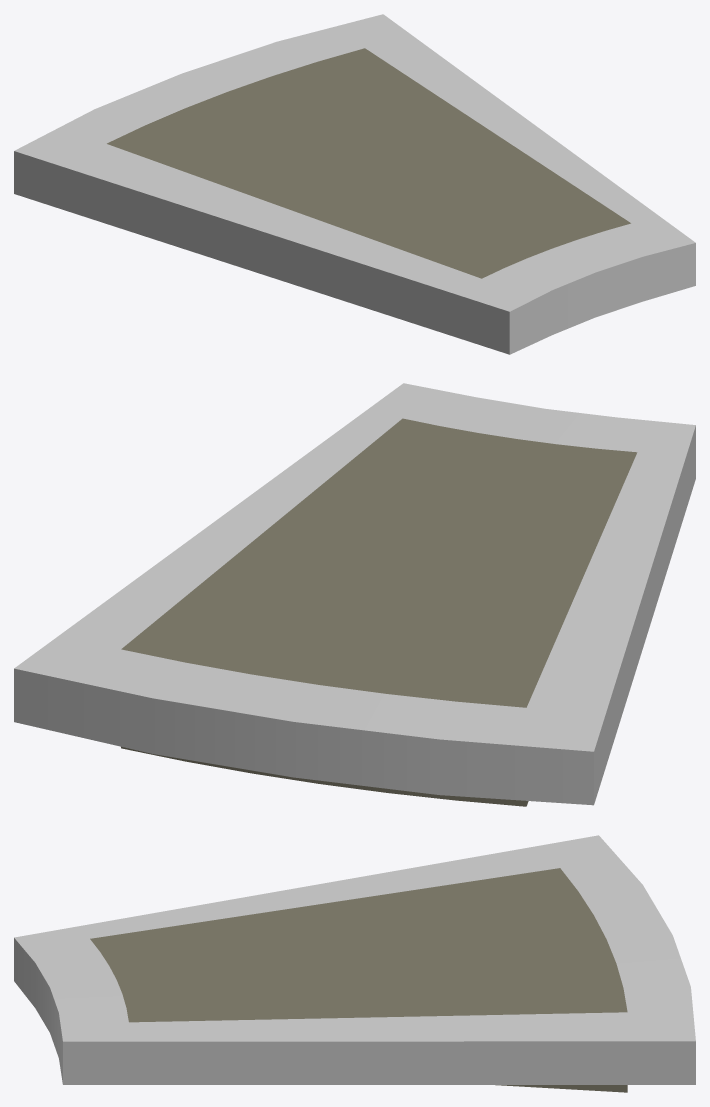
File: RadialMenu.fbx
3 views of the same model, one above another, from view 1: azimuth 30°, elevation 25°; view 2: azimuth 150°, elevation 25°; view 3: azimuth 270°, elevation 25° (orthographic). The views are drawn at different scales.
Visible parts, largest first — view 1: RadialMenuFrameSegmentBorder, RadialMenuSlotMask; view 2: RadialMenuFrameSegmentBorder, RadialMenuSlotMask, RadialMenuSlotInset; view 3: RadialMenuFrameSegmentBorder, RadialMenuSlotMask, RadialMenuSlotInset.
Part boxes in pixels (x1=…): RadialMenuFrameSegmentBorder: x1=14, y1=14, x2=695, y2=354; RadialMenuSlotMask: x1=107, y1=48, x2=630, y2=278; RadialMenuFrameSegmentBorder: x1=14, y1=383, x2=695, y2=805; RadialMenuSlotMask: x1=121, y1=418, x2=637, y2=707; RadialMenuSlotInset: x1=121, y1=746, x2=528, y2=806; RadialMenuFrameSegmentBorder: x1=14, y1=835, x2=695, y2=1084; RadialMenuSlotMask: x1=90, y1=868, x2=627, y2=1022; RadialMenuSlotInset: x1=495, y1=1085, x2=627, y2=1092.
Bounding box in the file's own units: 6.26 × 1.14 × 8.74.
